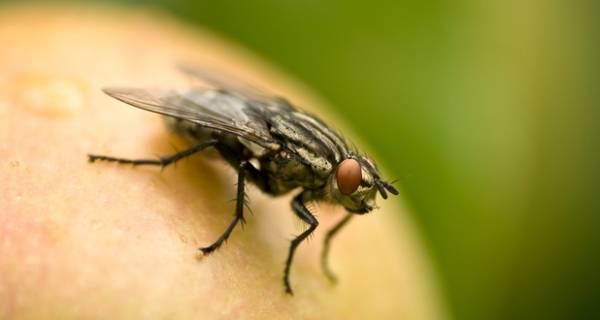house fly: (81, 50, 399, 304)
